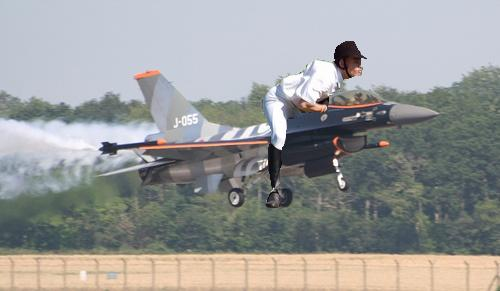tampered: (263, 42, 367, 208)
